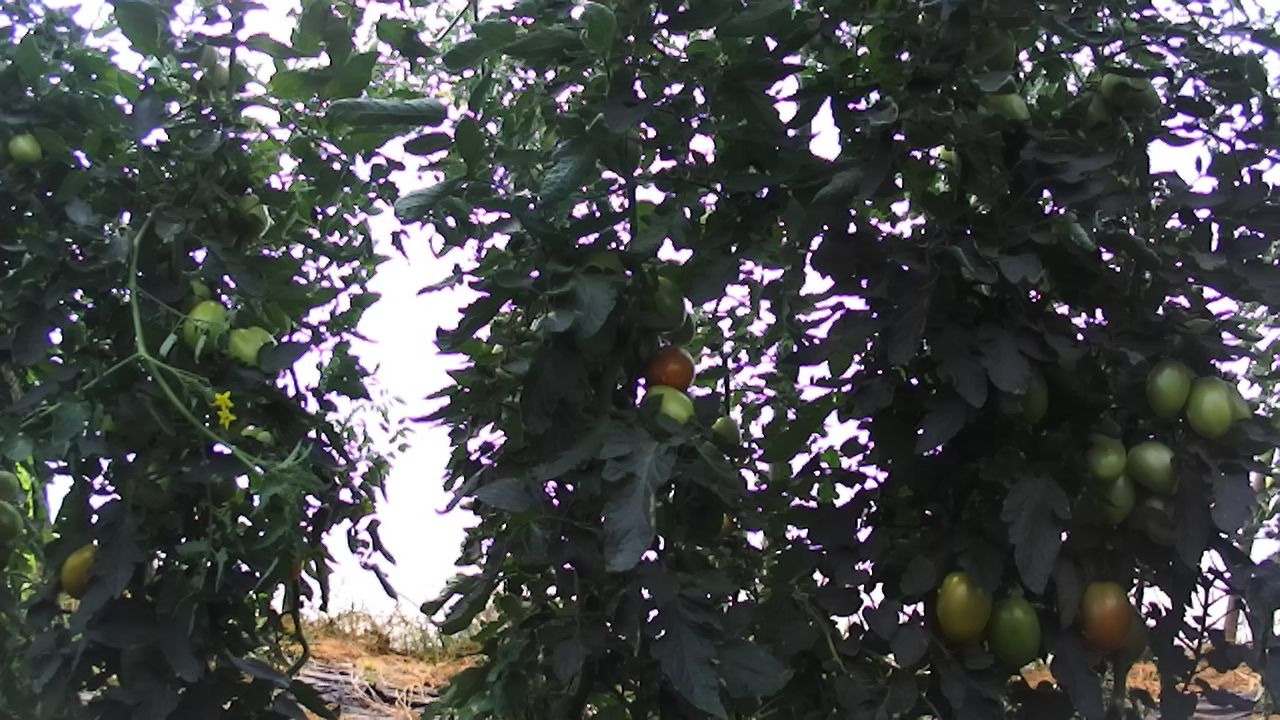tomato: (933, 567, 994, 644), (1078, 577, 1135, 656), (985, 593, 1044, 669), (1121, 435, 1188, 500), (54, 534, 107, 604), (1182, 372, 1235, 442), (1140, 355, 1193, 423), (177, 297, 234, 359), (1075, 424, 1131, 487), (642, 378, 701, 430), (644, 343, 698, 393), (8, 131, 42, 169)
